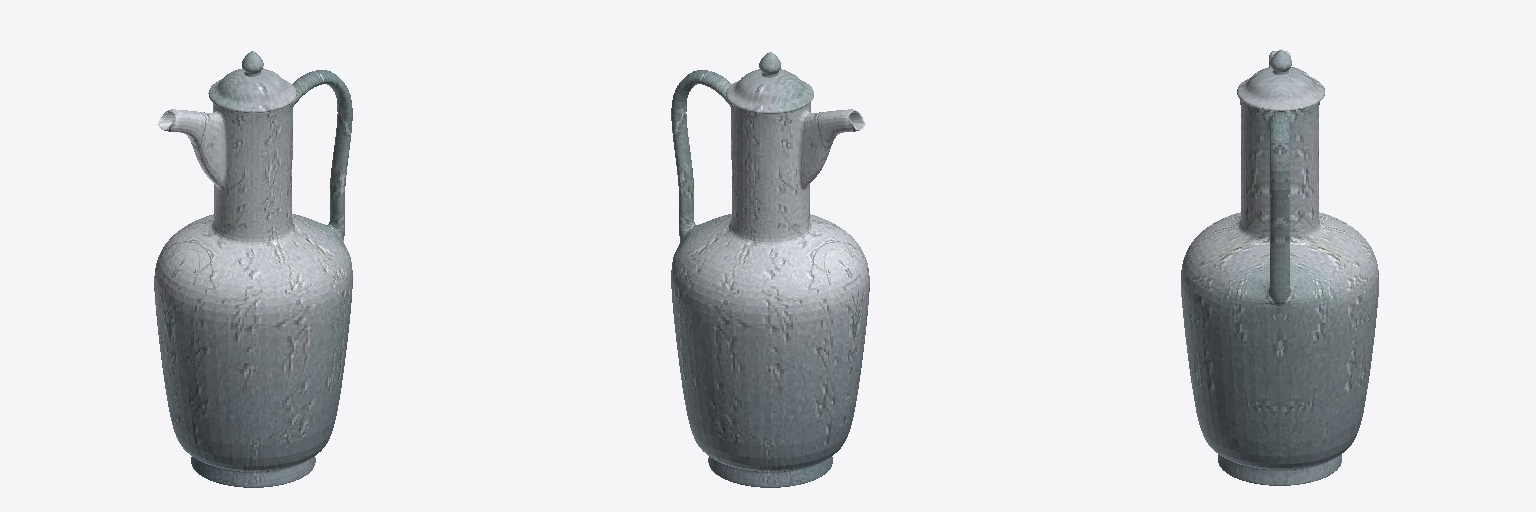
3 views of the same model, side by side, from view 1: azimuth 30°, elevation 25°; view 2: azimuth 150°, elevation 25°; view 3: azimuth 270°, elevation 25° (orthographic).
Visible parts, largest first — view 1: ����; view 2: ����; view 3: ����.
Part boxes in pixels (x1,y1,x2,y2): ����: (154, 51, 352, 487); ����: (671, 52, 869, 487); ����: (1181, 49, 1378, 485).
Size of the model in its own units: 106 by 219 by 95.78.
Materials: 1 (1 with a texture image).